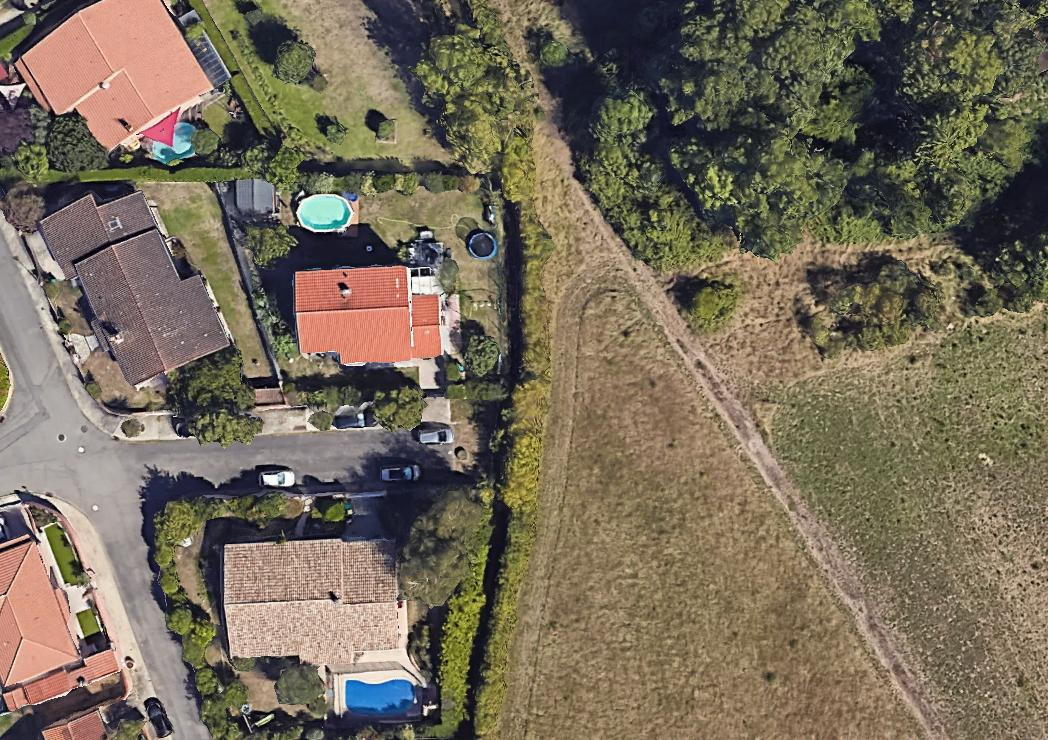maison: (34, 166, 231, 396), (8, 0, 215, 172), (0, 521, 120, 714), (223, 541, 397, 663), (291, 261, 447, 369), (43, 711, 104, 739)
